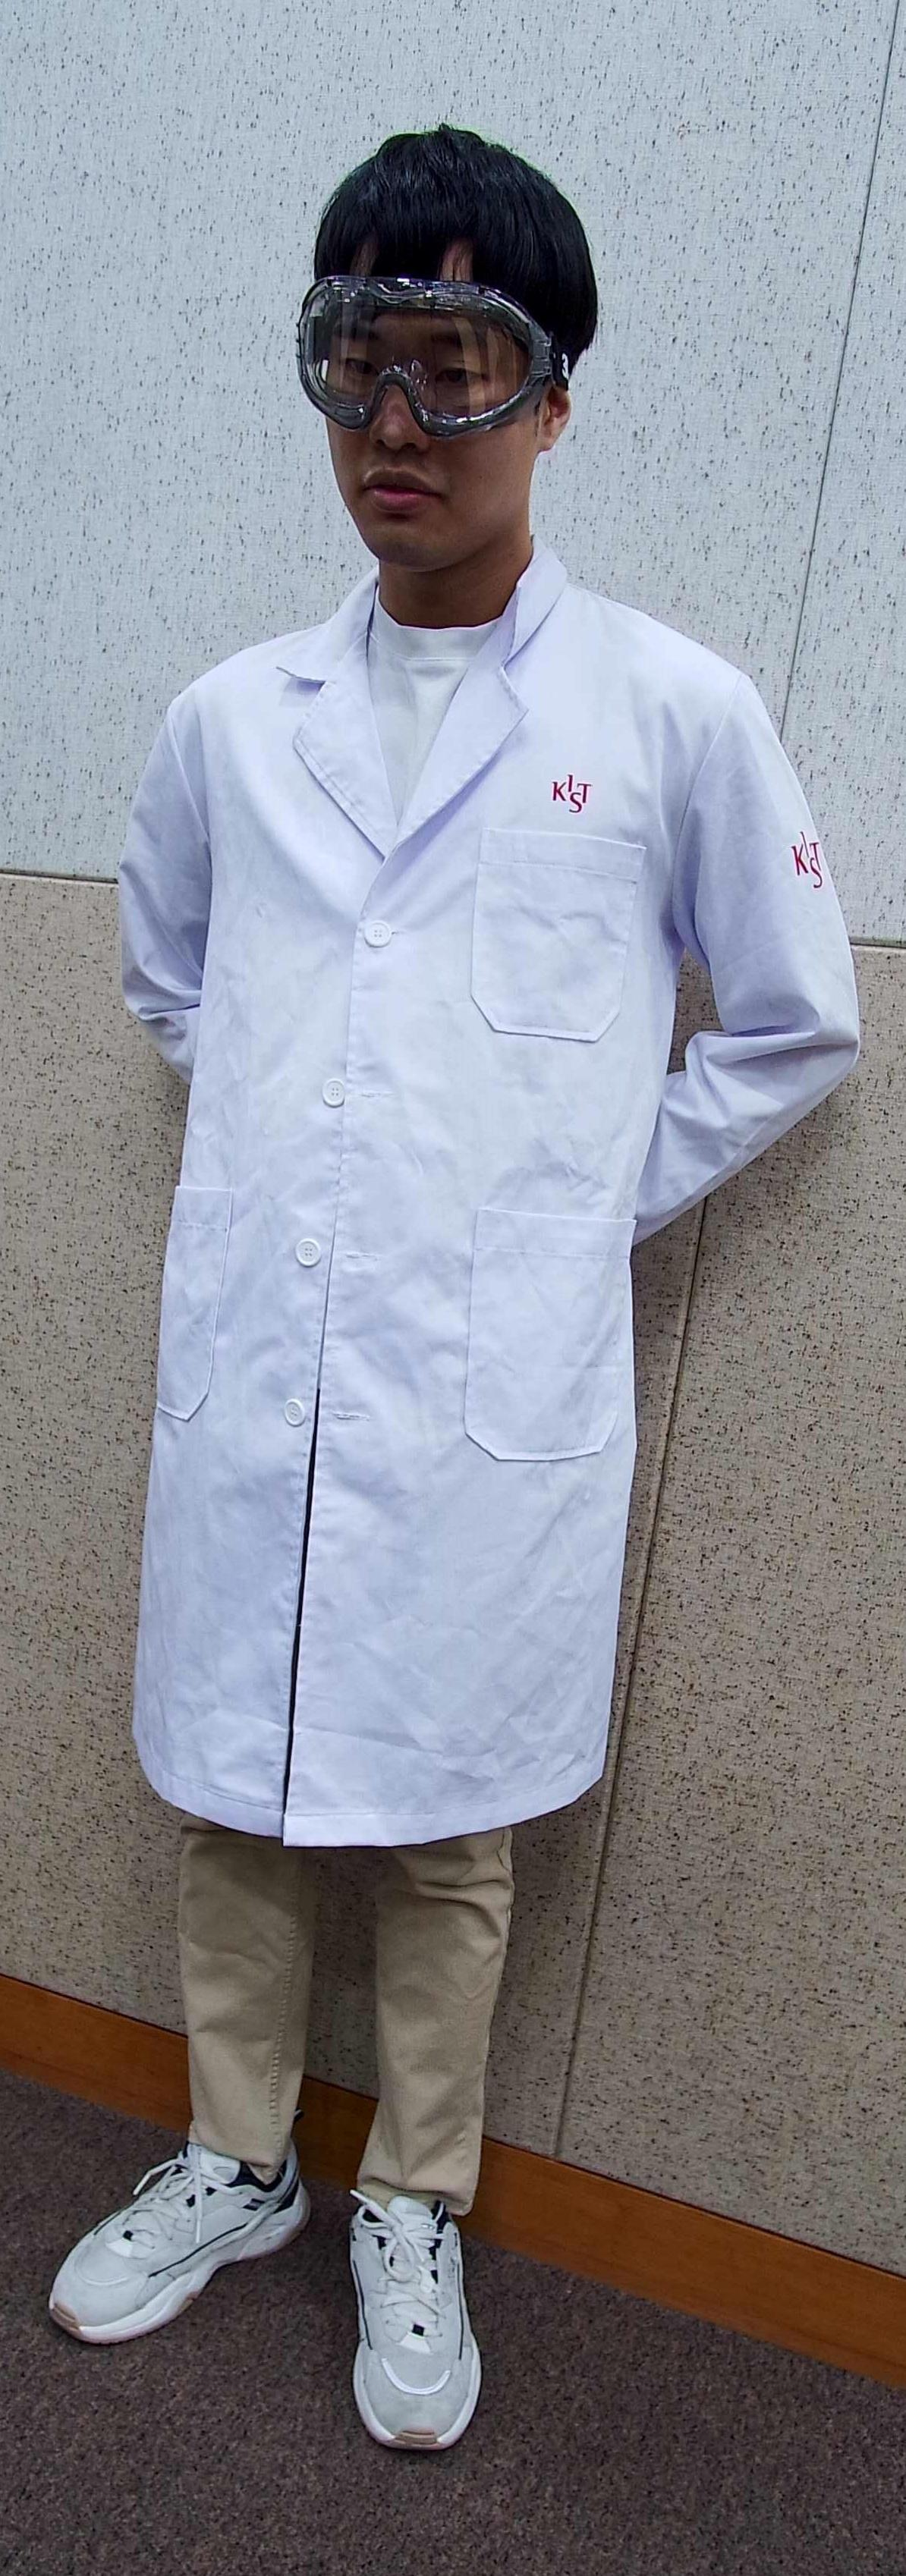lab_coat: (92, 639, 712, 1817)
